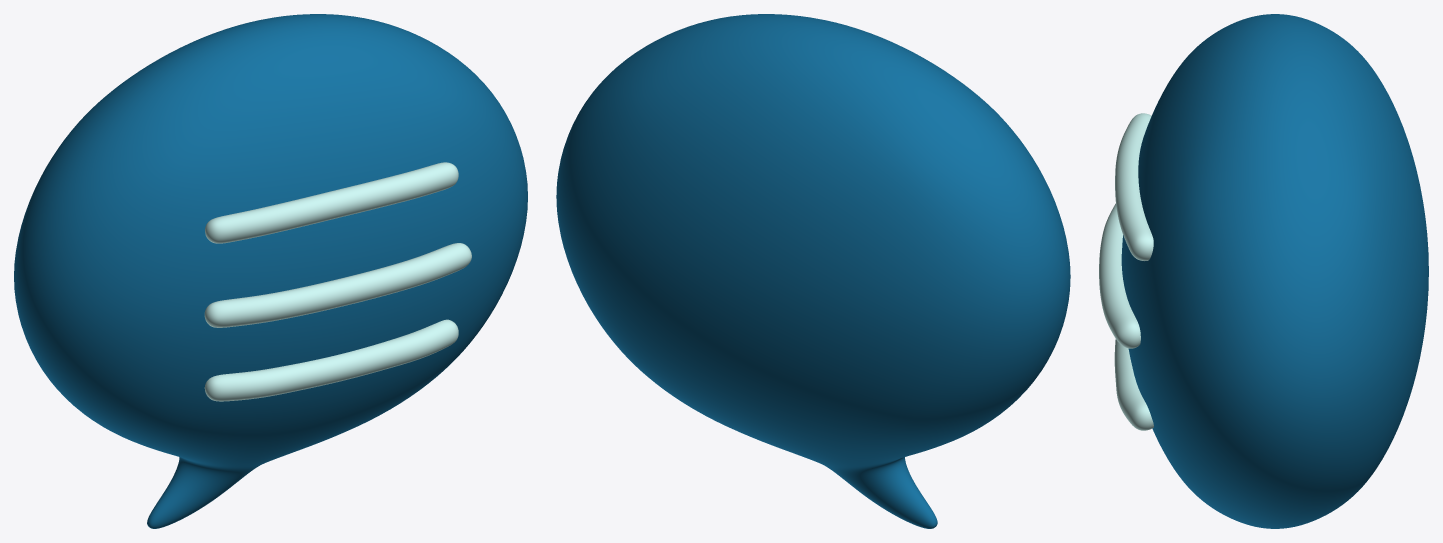
Rendered from chat-text.fbx.
3 views of the same model, side by side, from view 1: azimuth 30°, elevation 25°; view 2: azimuth 150°, elevation 25°; view 3: azimuth 270°, elevation 25° (orthographic). The views are drawn at different scales.
Parts seen in each view (by area): view 1: Chat; view 2: Chat; view 3: Chat.
Part boxes in pixels (x1,y1,x2,y2): Chat: (14, 14, 527, 528); Chat: (556, 14, 1070, 528); Chat: (1099, 14, 1428, 528).
Bounding box in the file's own units: 189 × 174 × 102.
